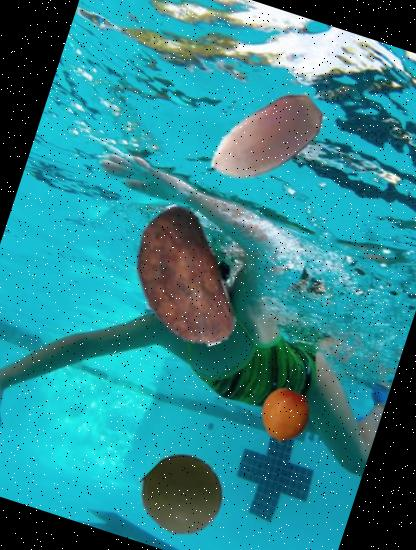Apricot: (252, 380, 319, 448)
Chestnut: (89, 186, 272, 370)
Grape: (132, 444, 235, 546)
Hazelnut: (186, 62, 342, 218)
